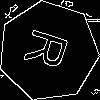R: (23, 26, 78, 75)
